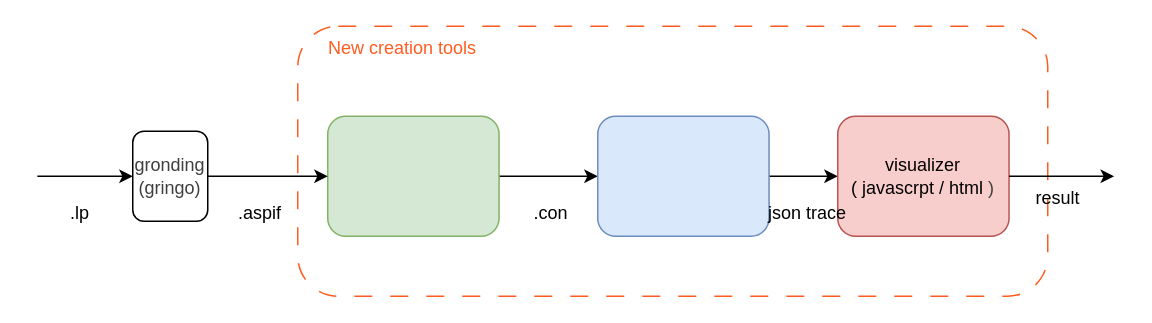
The diagram is 1152 pixels wide and 323 high, and some of its shapes have lost their labels. The shapes that lost their labels are listed below. From the top down, each one's centre as x and y in pixels, then its label:
[412,175]: converter (python )
[682,175]: solve tracer (python )
